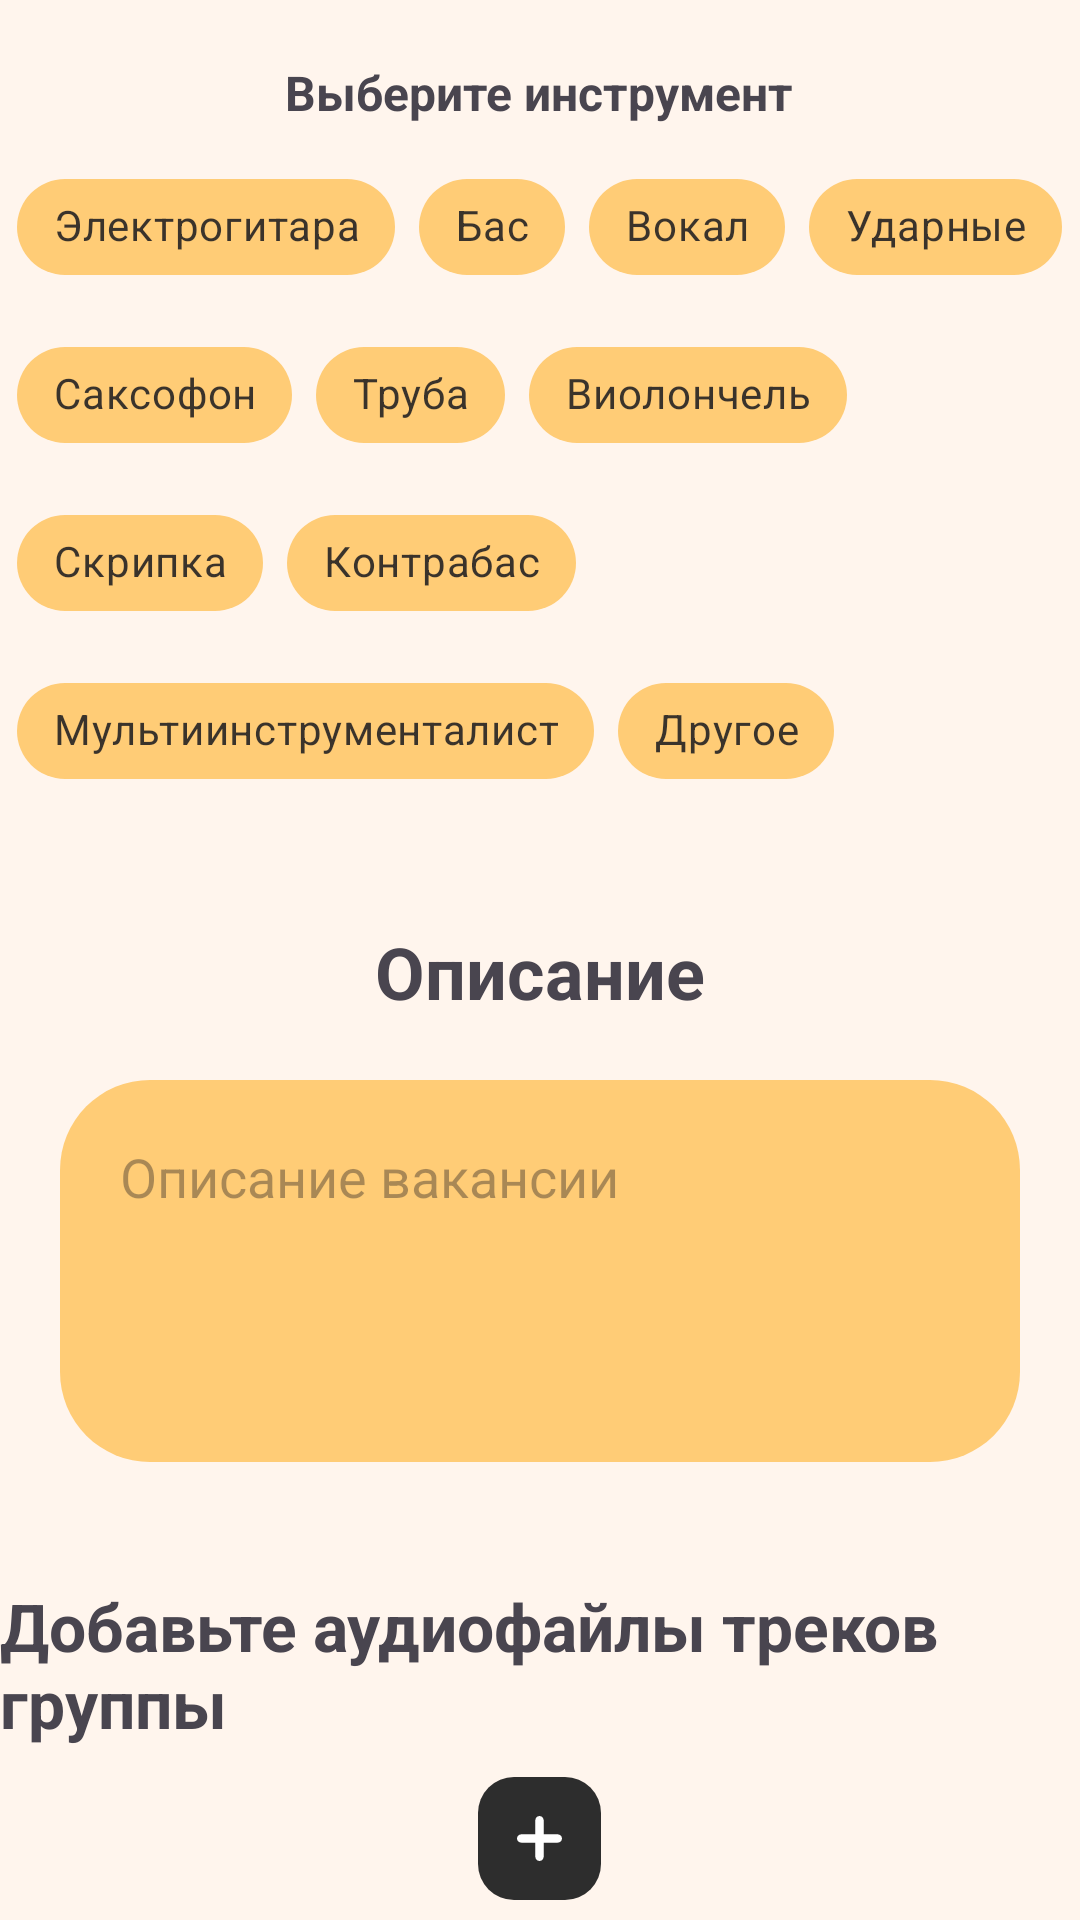

Screen size 1080px×1920px. Icon name, then its center in pixels as (x=x, y=y):
add: (x=539, y=1838)
